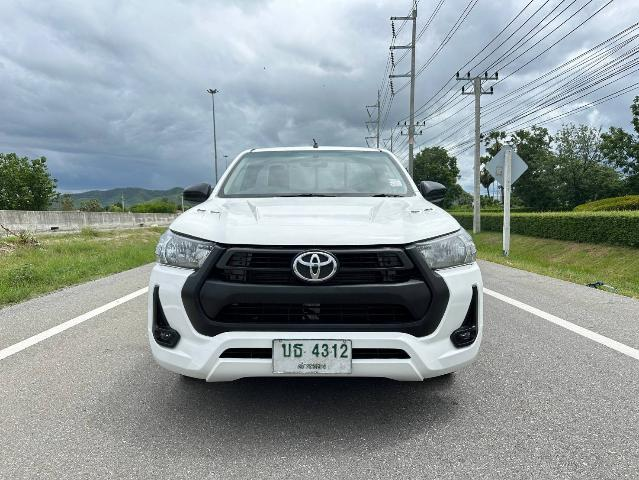pickup-truck: (143, 140, 489, 395)
